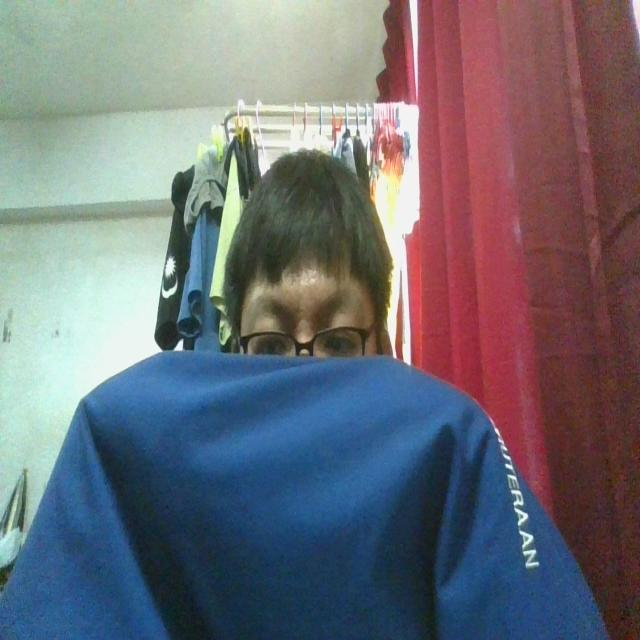person_without_labcoat: (0, 150, 608, 639)
